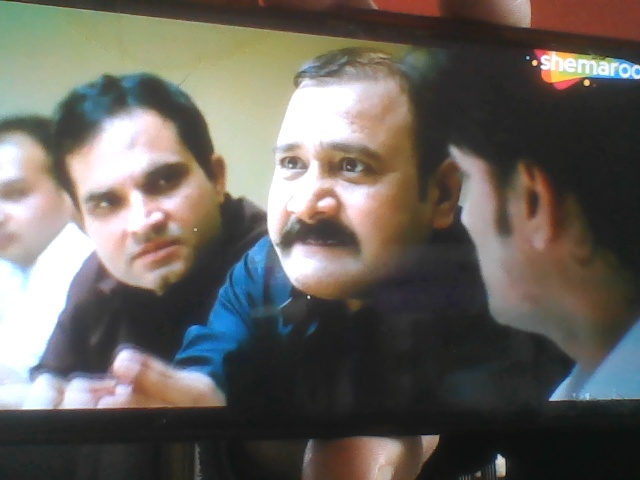fake: (256, 28, 450, 303), (67, 73, 229, 302)
